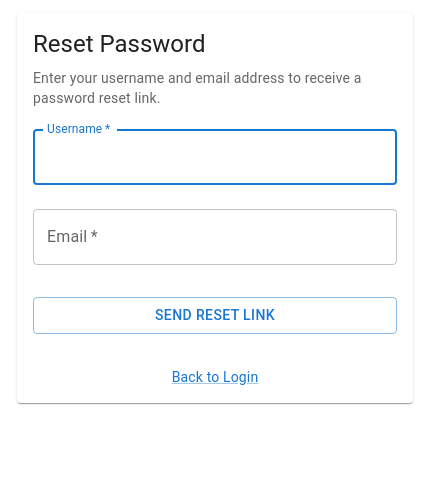
Test: ForgotPassword › requires both username and email before posting
Type "alice" into the field labelled "Username *" at (215, 157), box x1=33 y1=129 x2=397 y2=185
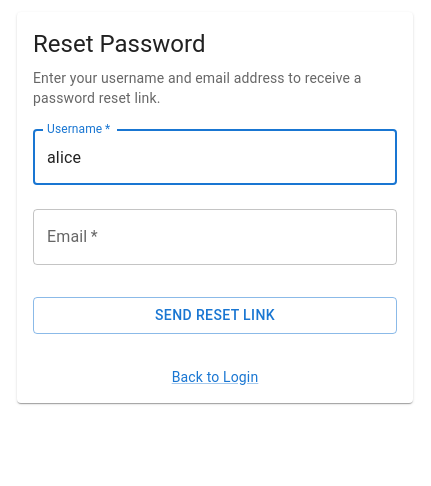
Click the button "Send Reset Link" at (215, 316), box x1=33 y1=297 x2=397 y2=334
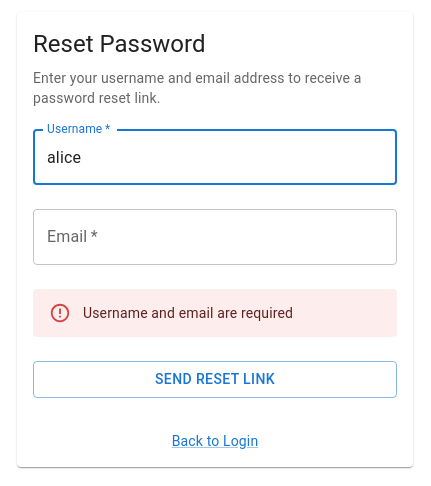
Now the text "Username and email are required" is shown, box x1=83 y1=305 x2=293 y2=321
